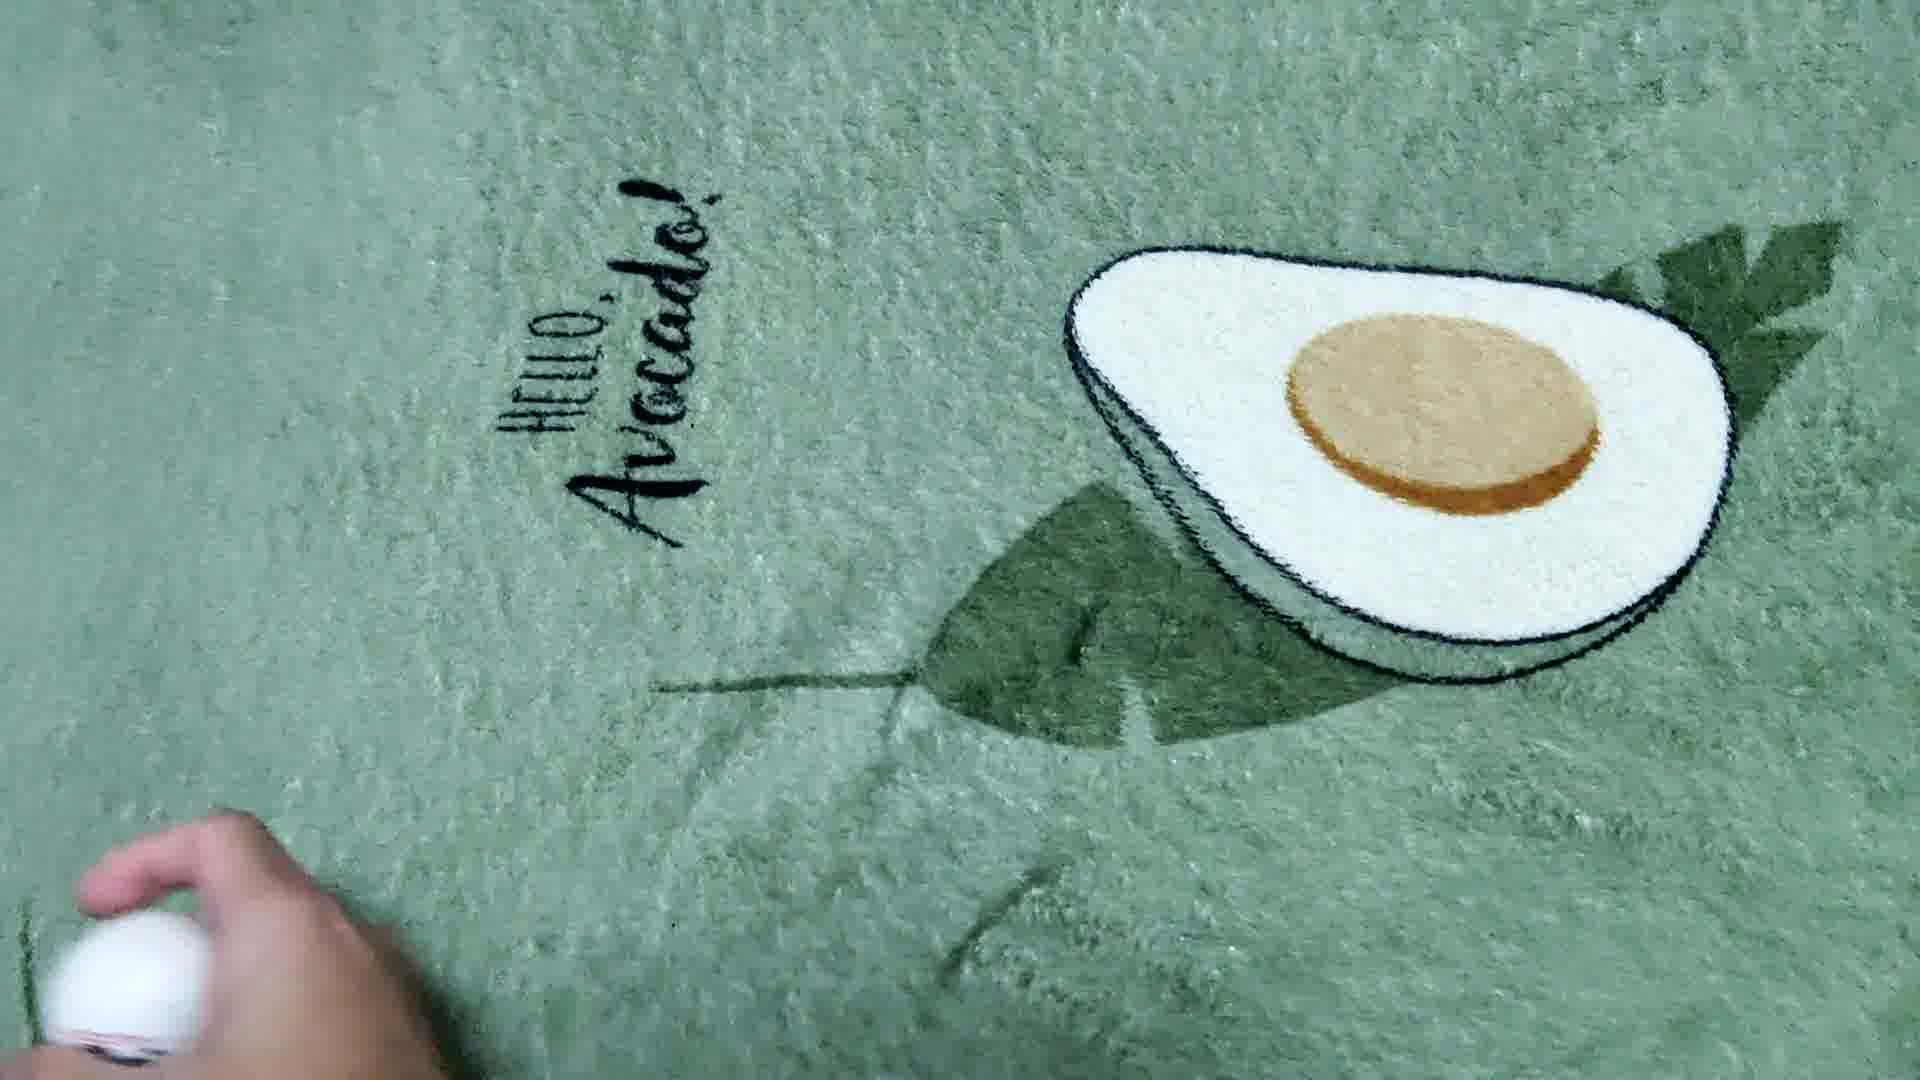Ball: (41, 911, 229, 1062)
